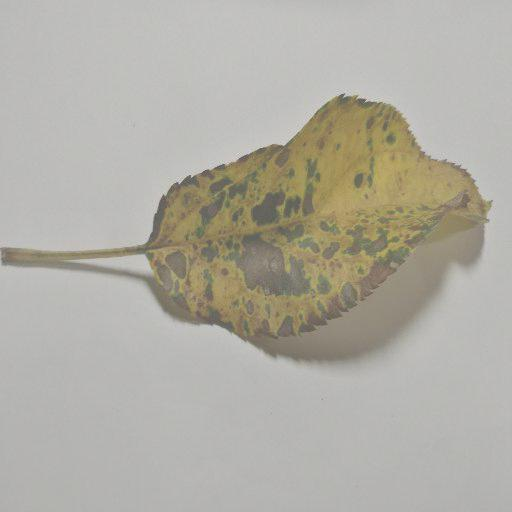Brown_Spot: (150, 167, 425, 316)
